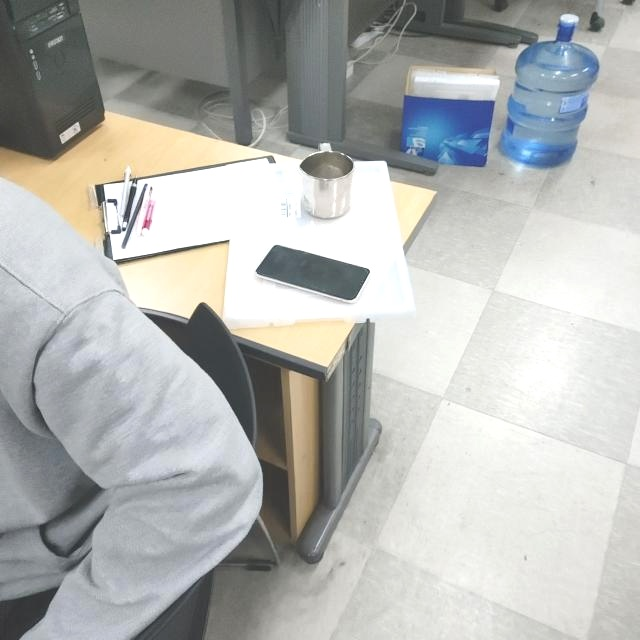cup: (297, 139, 358, 221)
phone: (252, 244, 373, 305)
